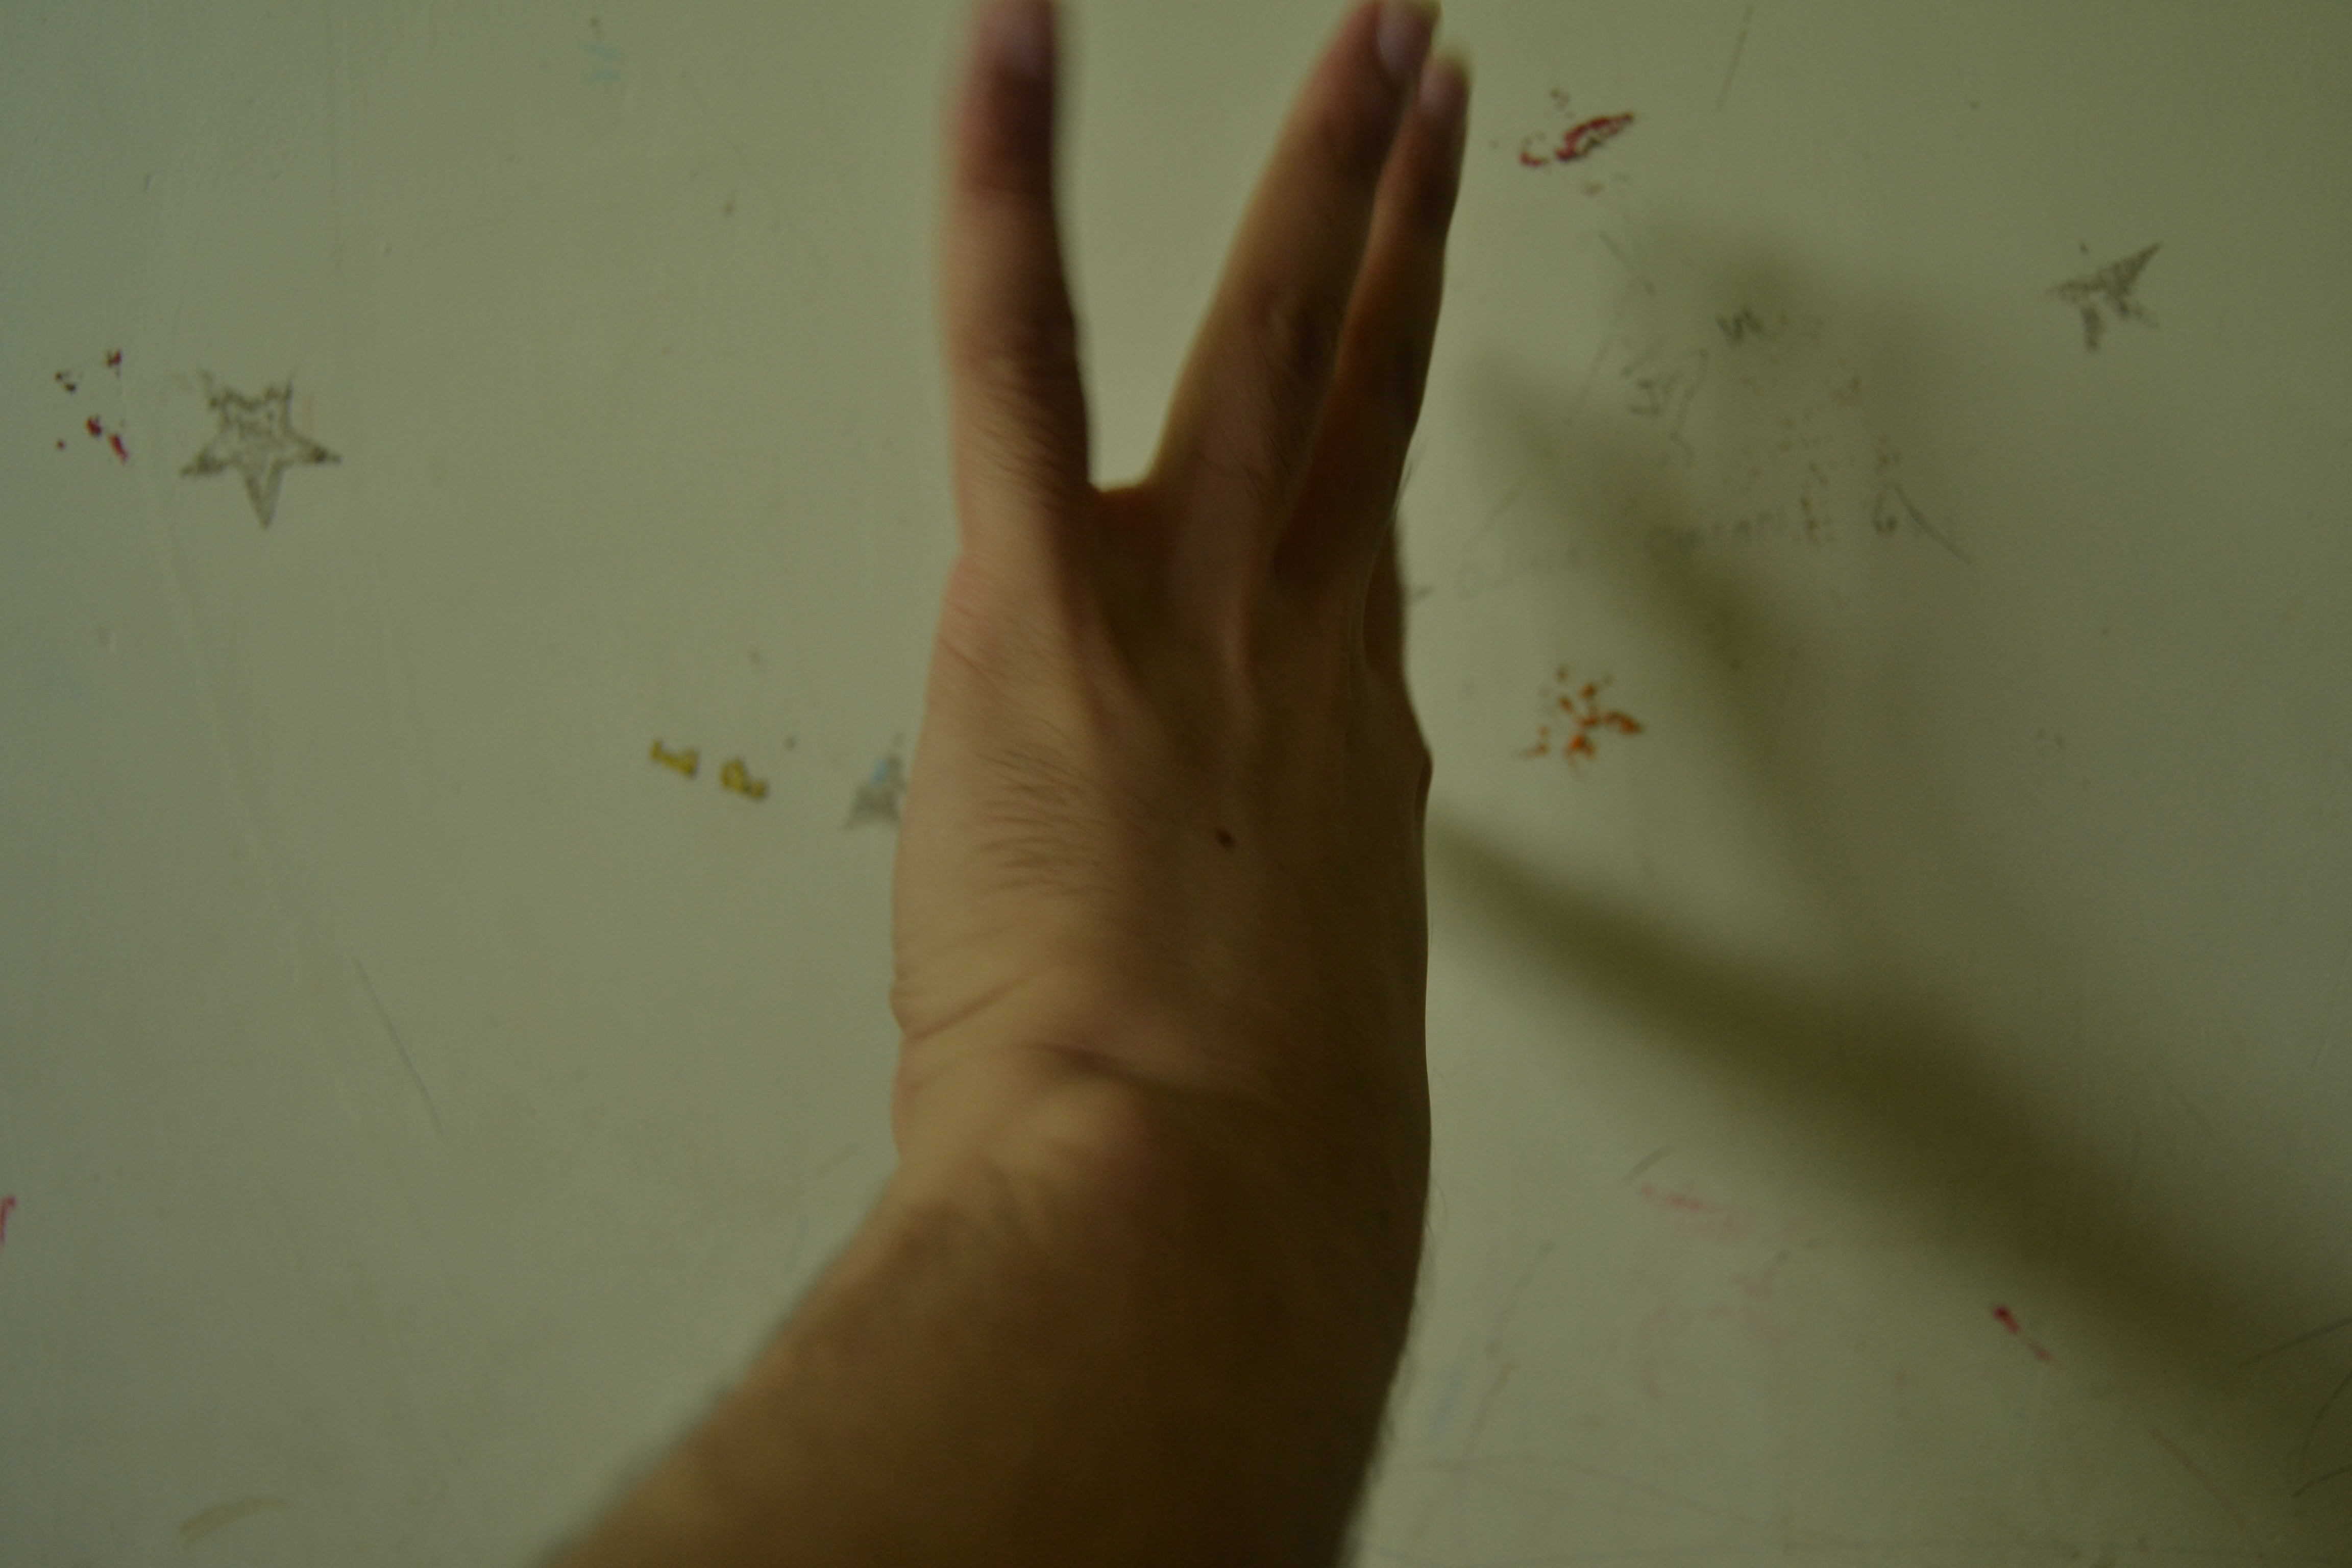move: (842, 24, 1564, 1472)
